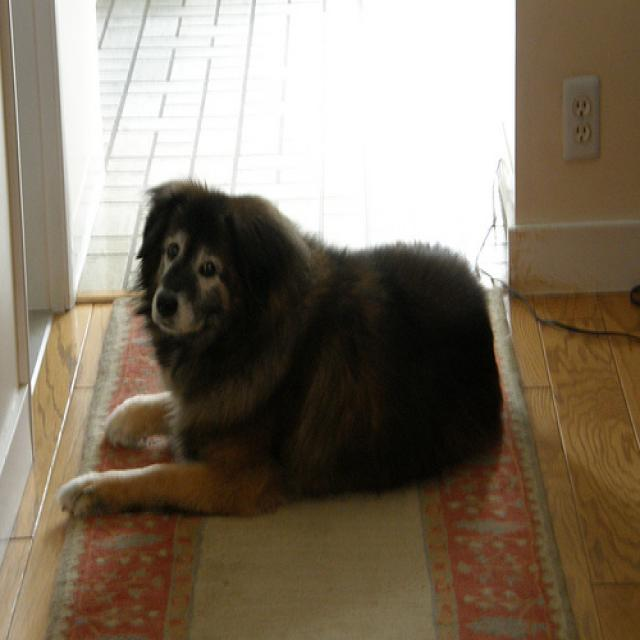dog-leonberger: (52, 171, 511, 534)
